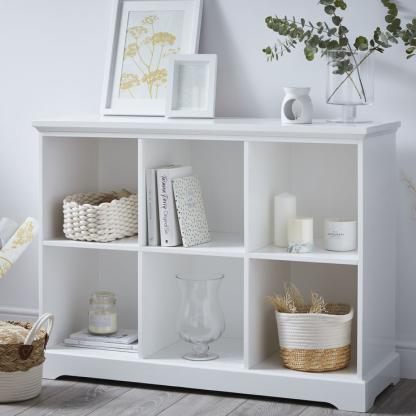lamp: (31, 118, 404, 415)
